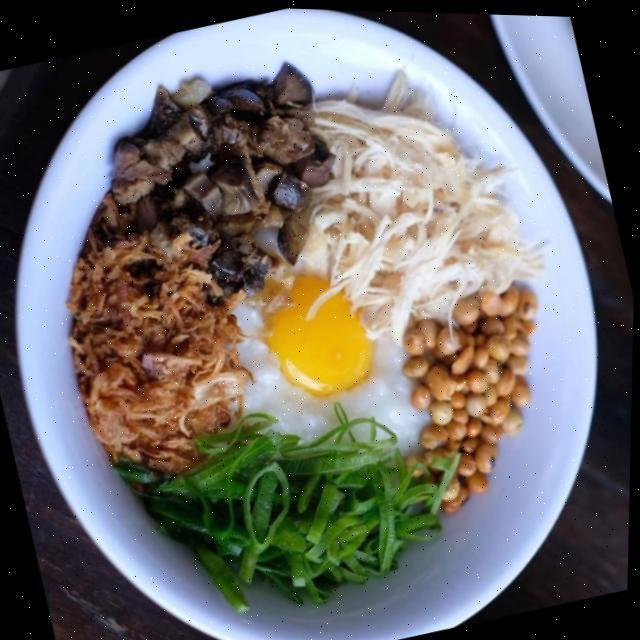bubur ayam: (1, 0, 606, 640)
mangkuk: (0, 0, 640, 640)
